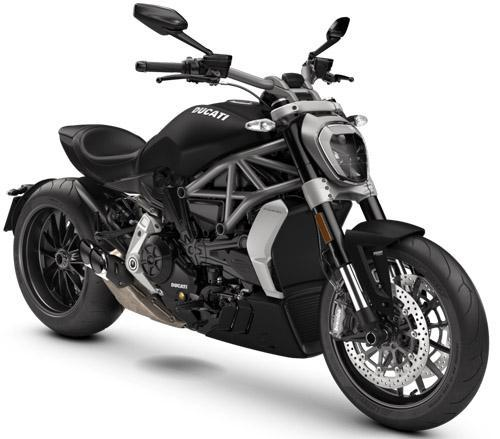motorbike: (3, 2, 490, 431)
